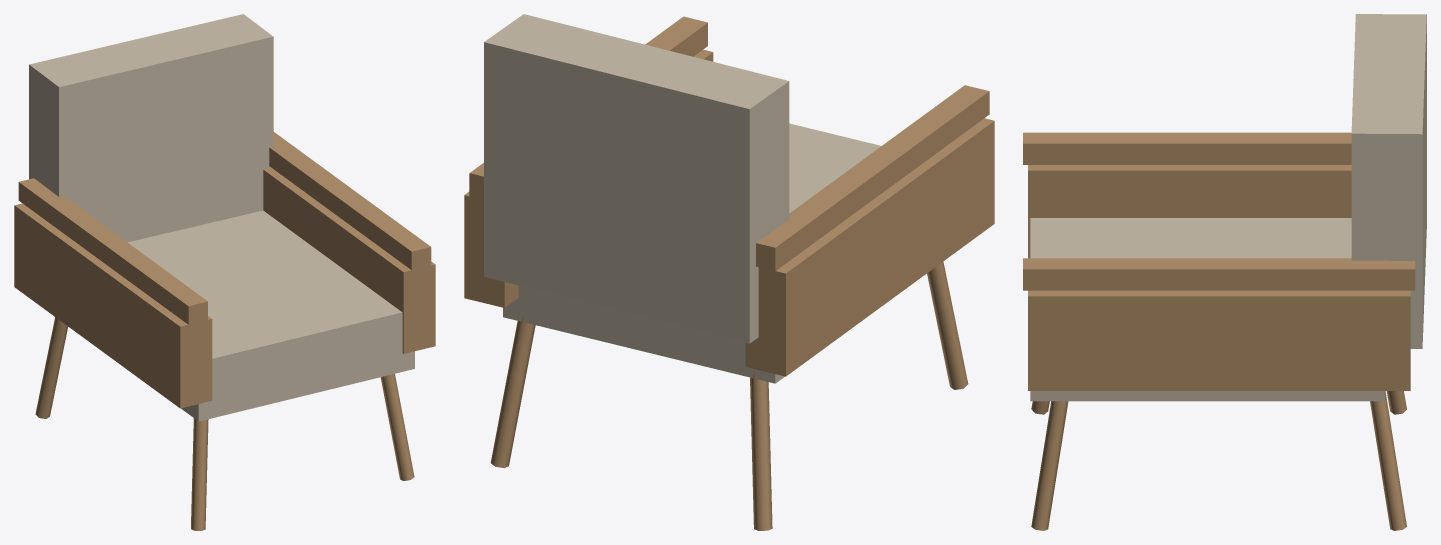
File: armchair-2.glb
3 views of the same model, side by side, from view 1: azimuth 30°, elevation 25°; view 2: azimuth 150°, elevation 25°; view 3: azimuth 270°, elevation 25° (orthographic). The views are drawn at different scales.
Visible parts, largest first — view 1: armchair:2:editor; view 2: armchair:2:editor; view 3: armchair:2:editor.
Boxes of the visible parts, x1,y1,x2,y2 form: armchair:2:editor: (14, 14, 435, 530); armchair:2:editor: (464, 14, 994, 530); armchair:2:editor: (1023, 14, 1426, 530).
Size of the model in its own units: 0.7183 by 0.9237 by 0.8524.
